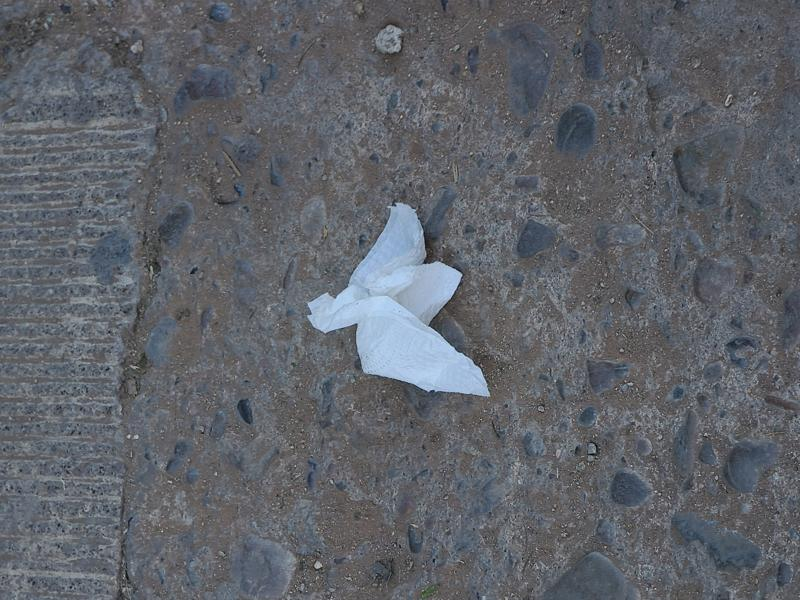papel: (308, 204, 490, 398)
